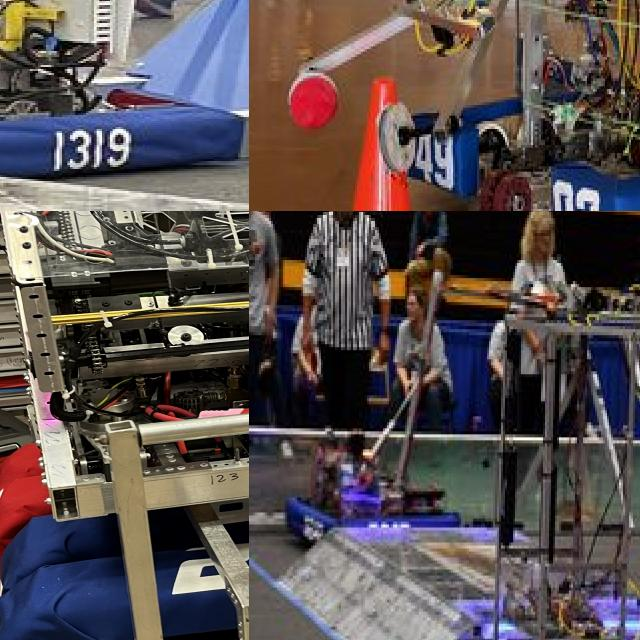FRC-Robots: (0, 211, 249, 640), (450, 212, 640, 640), (266, 292, 468, 568), (384, 0, 640, 211), (0, 0, 249, 170)
